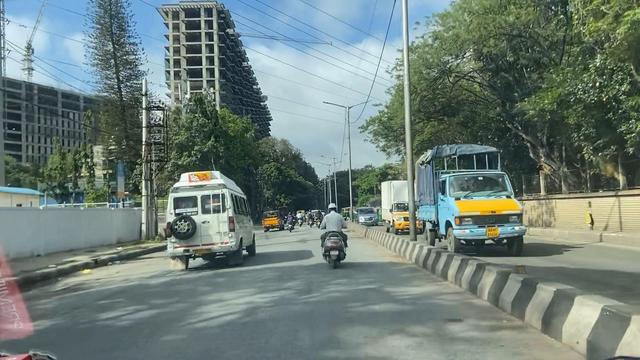HMV: (158, 172, 254, 274)
LMV: (318, 203, 349, 265)
